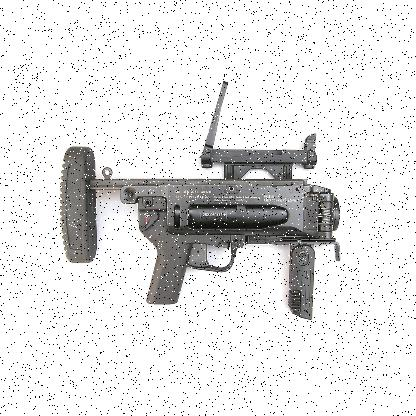gun: (58, 80, 340, 318)
